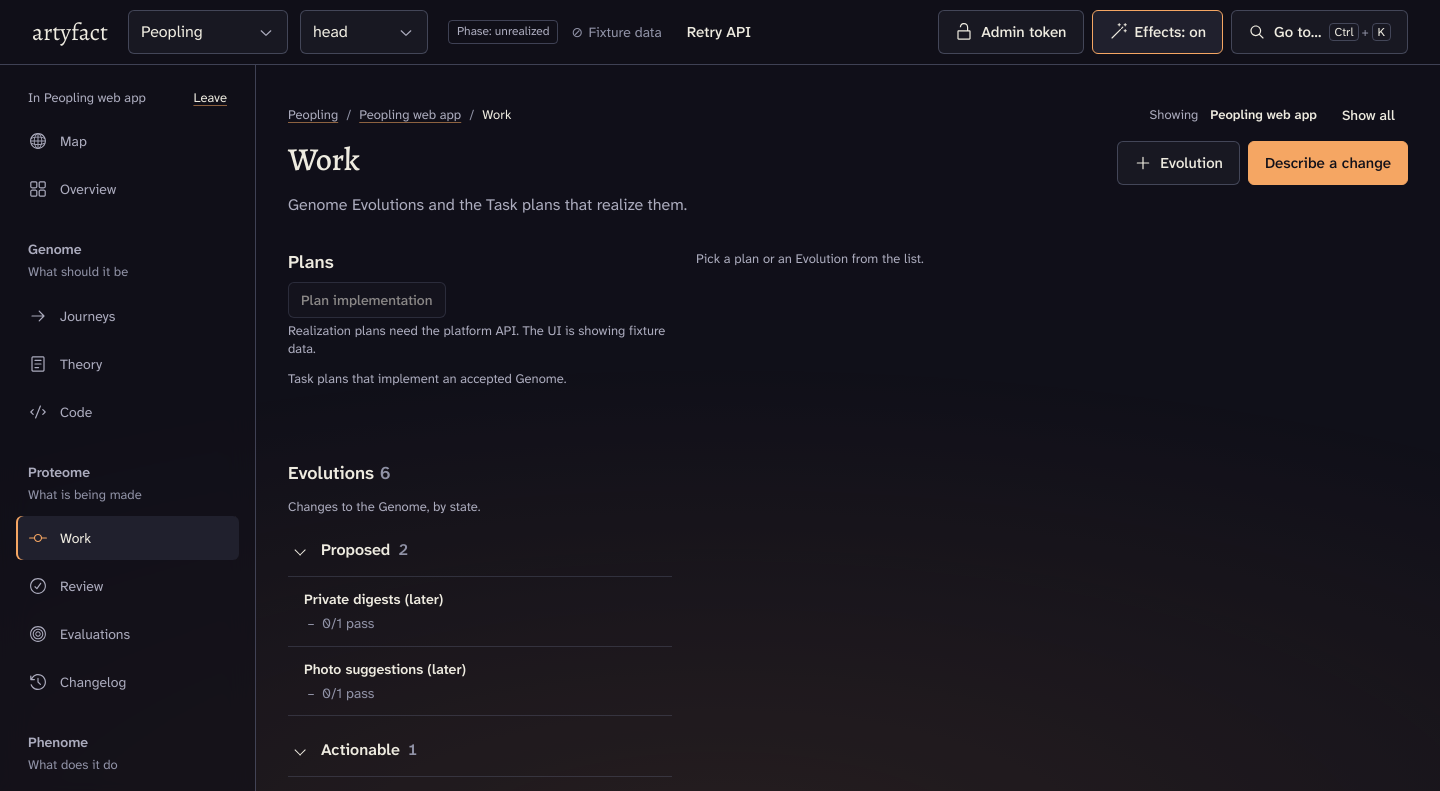
Scenario: Shell › keeps the rail inside a Thing workspace and resolves Review there
The width and height of the screenshot is (1440, 791).
Click the link "Review".
click(66, 586)  # box [29, 577, 103, 595]
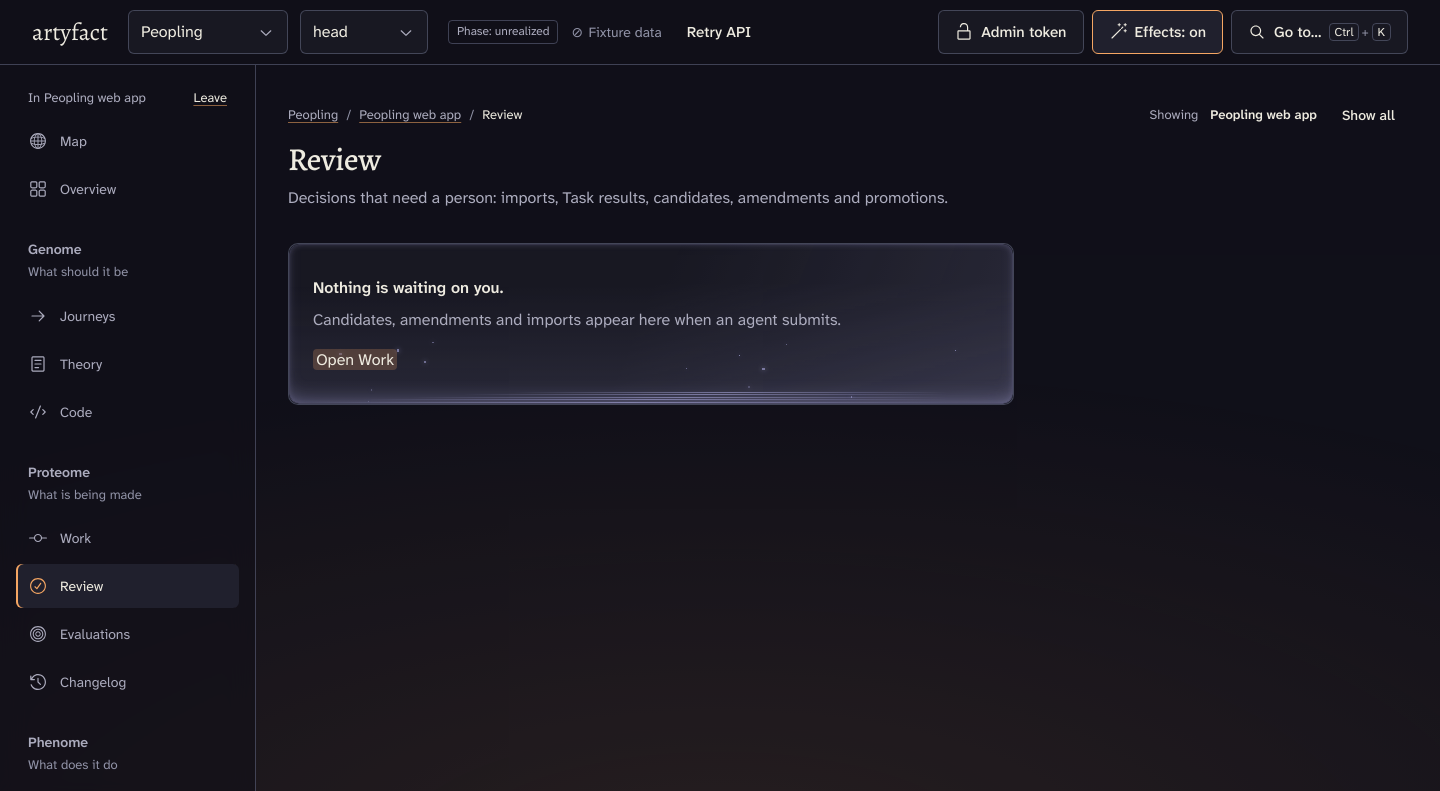
Check: the button "Show all" is shown, box [1329, 97, 1408, 133]
Check: the heading "Review" is shown, box [288, 141, 381, 178]
